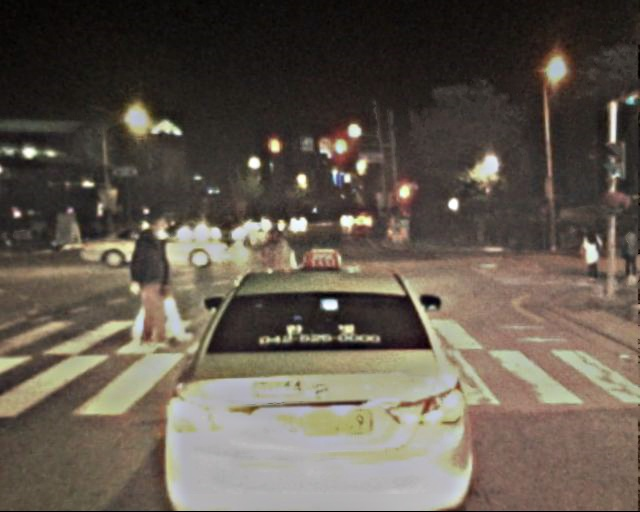person: (129, 215, 182, 344), (256, 227, 295, 321), (580, 227, 604, 286), (618, 226, 640, 283)
